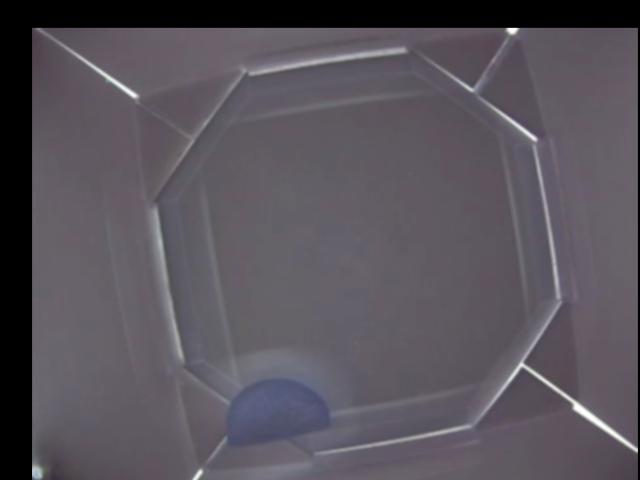Mooli: (228, 378, 331, 446)
